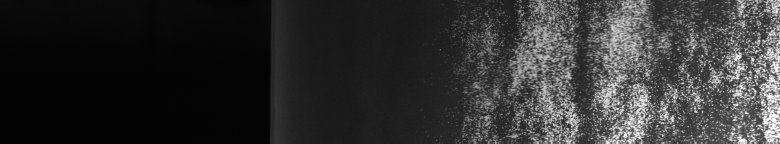kb: (472, 4, 776, 136)
